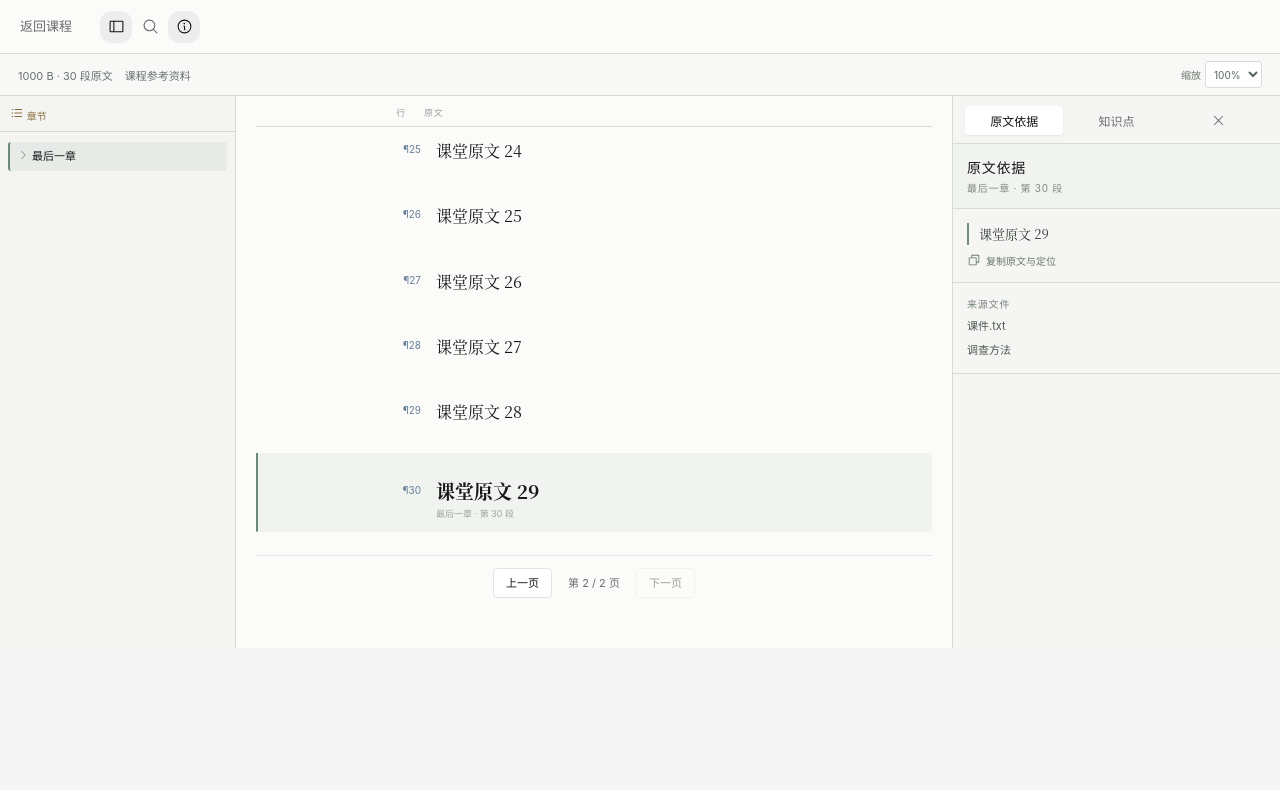
Test case: keeps professional pagination and opens an anchored segment on its own page
This screenshot has width=1280, height=790.
Expected: the text "第 2 / 2 页" is shown, [568,575,620,591]
Expected: the heading "课堂原文 29" is shown, [436,477,539,504]
Click the button "上一页": (523, 583) [493,568,552,598]
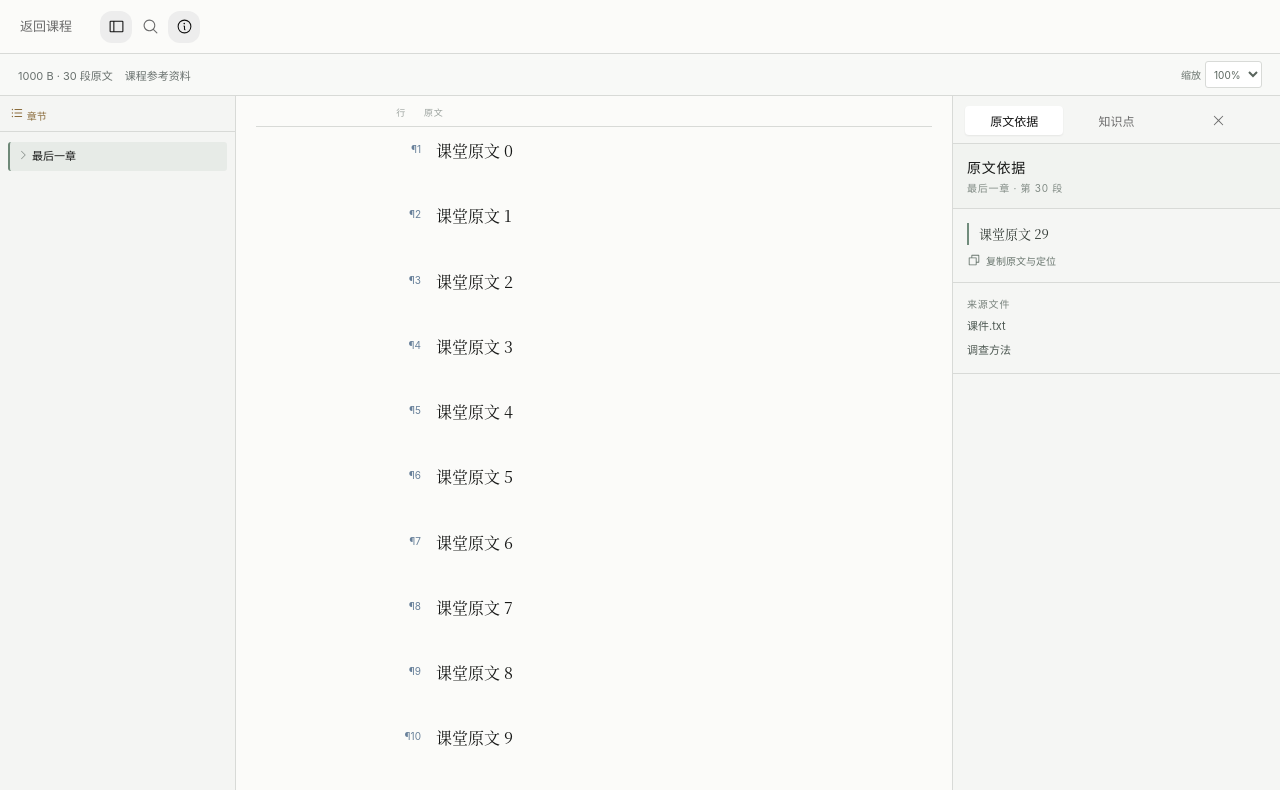
Result: the text "课堂原文 0" is shown at [436,139,513,162]
